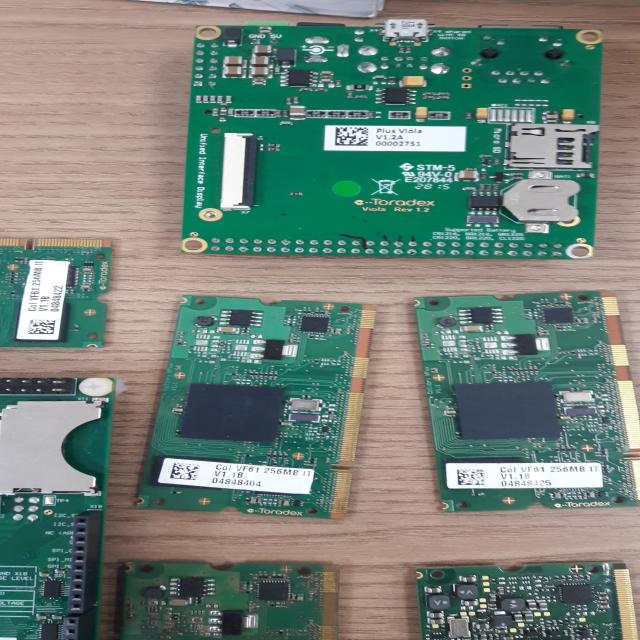som: (132, 288, 358, 529), (396, 289, 640, 510), (109, 546, 343, 640), (409, 557, 640, 640), (1, 231, 128, 351)
